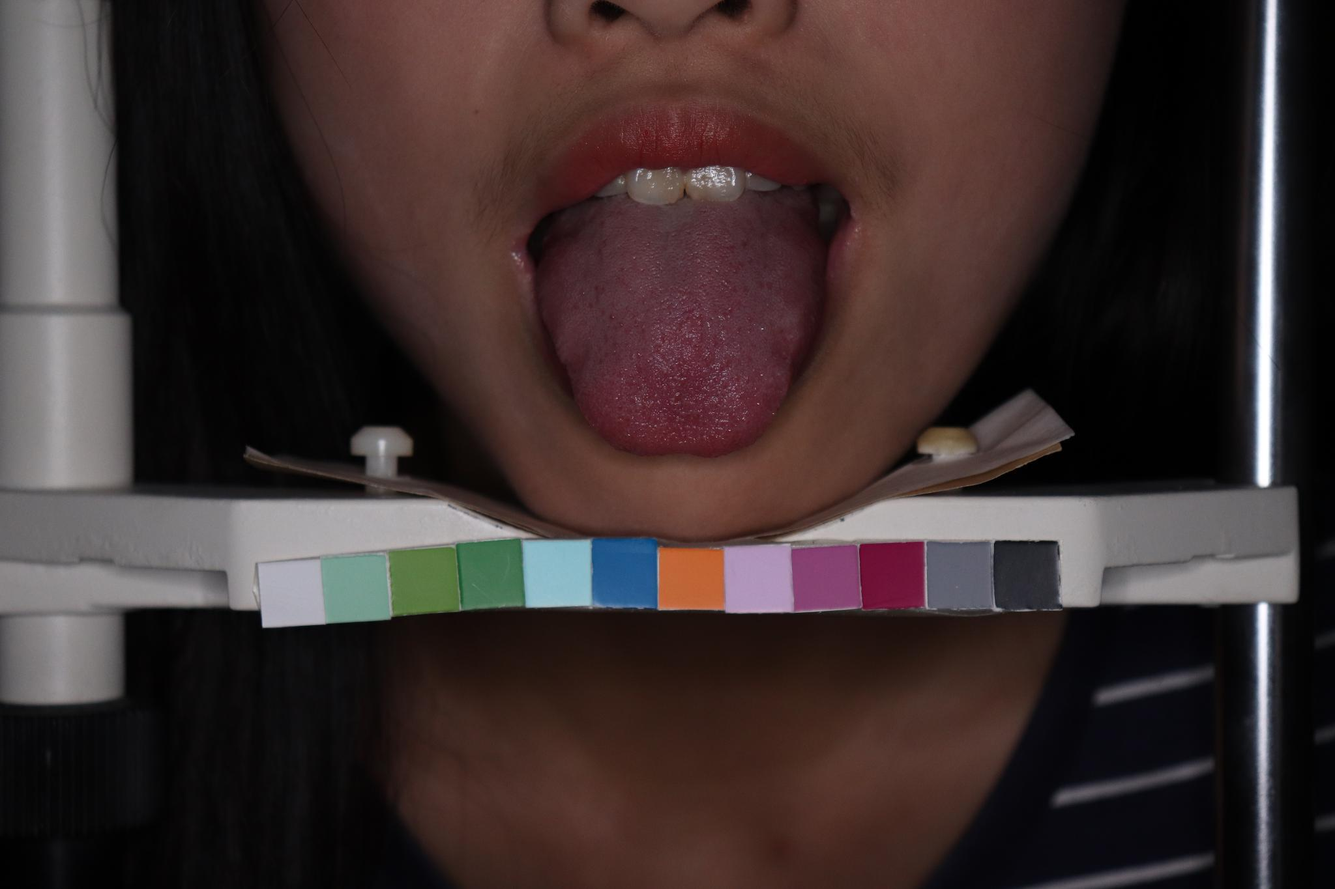baitaishe: (536, 201, 823, 458)
hongshe: (537, 201, 824, 458)
